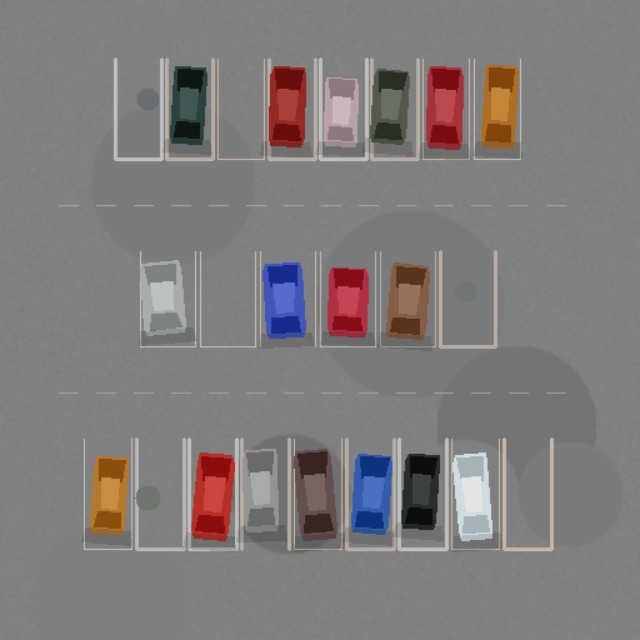space-empty: (136, 439, 184, 549), (200, 251, 255, 346), (440, 251, 495, 346), (504, 439, 551, 549), (115, 59, 161, 159), (218, 59, 264, 159)
space-occupied: (241, 439, 289, 549), (346, 439, 394, 549), (451, 439, 499, 549), (140, 251, 195, 346), (260, 251, 315, 346), (320, 251, 375, 346), (380, 251, 435, 346), (84, 439, 131, 549), (189, 439, 236, 549), (294, 439, 341, 549), (399, 439, 446, 549), (371, 59, 418, 159), (422, 59, 469, 159), (166, 59, 212, 159), (269, 59, 315, 159), (320, 59, 366, 159), (474, 59, 520, 159)
